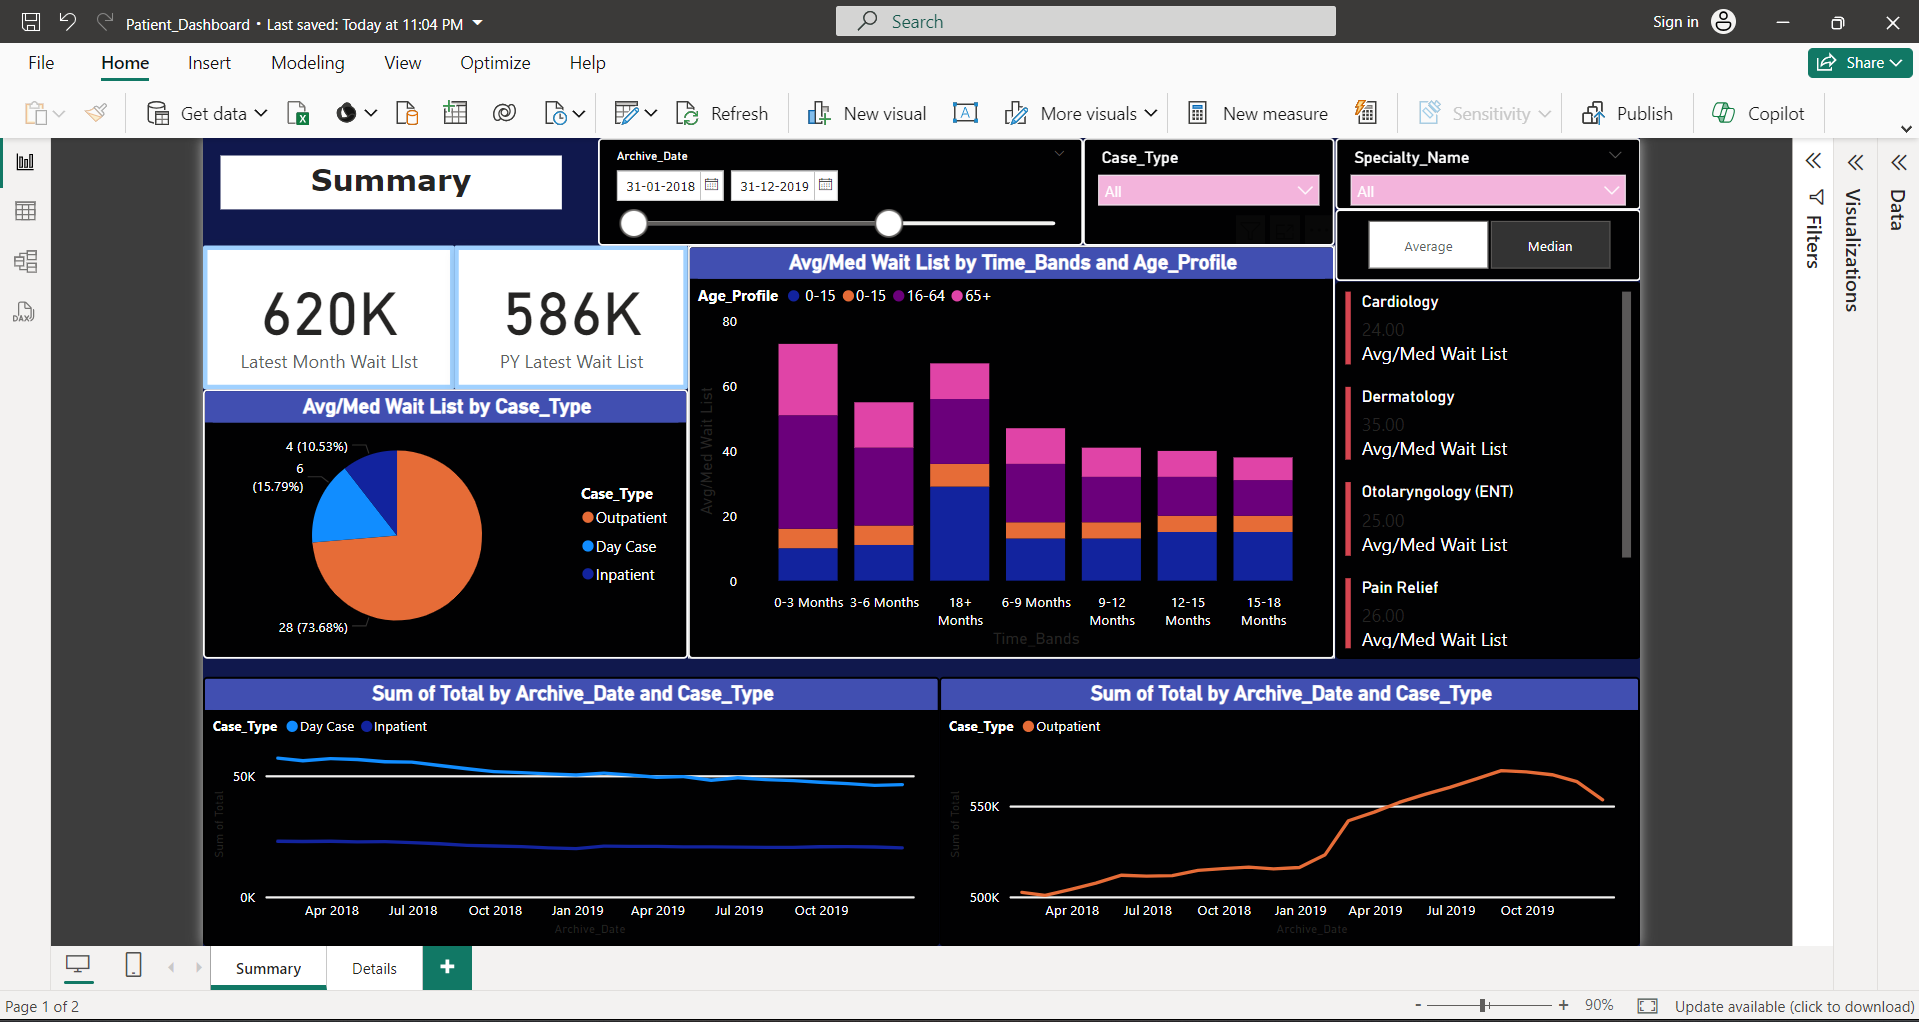

Layout of this report page (visuals, bound fields, positions):
{"tool":"powerbi","page":{"name":"Summary","canvas":[1280,720],"ordinal":0},"visuals":[{"type":"card","fields":{"Values":["All_Data.Latest_Month_Wait_List"]},"box":[0,96,224,128],"z":0},{"type":"card","fields":{"Values":["All_Data.PY Latest Wait List"]},"box":[224,96,208,128],"z":1},{"type":"slicer","fields":{"Values":["Calculation Method.Calc Method"]},"box":[1008,64,272,64],"z":2},{"type":"pieChart","fields":{"Category":["All_Data.Case_Type"],"Y":["All_Data.Avg/Med Wait List"]},"box":[0,224,432,240],"z":3},{"type":"columnChart","fields":{"Y":["All_Data.Avg/Med Wait List"],"Category":["All_Data.Time_Bands"],"Series":["All_Data.Age_Profile"]},"box":[432,96,576,368],"z":4},{"type":"multiRowCard","fields":{"Values":["All_Data.Specialty_Name","All_Data.Avg/Med Wait List"]},"box":[1008,128,272,336],"z":5},{"type":"lineChart","fields":{"Y":["Sum(All_Data.Total)"],"Category":["All_Data.Archive_Date"],"Series":["All_Data.Case_Type"]},"box":[0,480,656,240],"z":6},{"type":"lineChart","fields":{"Y":["Sum(All_Data.Total)"],"Category":["All_Data.Archive_Date"],"Series":["All_Data.Case_Type"]},"box":[656,480,624,240],"z":7},{"type":"slicer","fields":{"Values":["All_Data.Archive_Date"]},"box":[352,0,432,96],"z":8},{"type":"slicer","fields":{"Values":["All_Data.Case_Type"]},"box":[784,0,224,96],"z":9},{"type":"slicer","fields":{"Values":["All_Data.Specialty_Name"]},"box":[1008,0,272,64],"z":10},{"type":"textbox","box":[16,16,304,48],"z":13}]}

Visuals, with their boxes on the page's 1280x720 design canvas (x1, y1, x2, y2). These are canvas units, not pixel positions in the 1919x1022 screenshot, which may show the page scaled, cropped or inside an application window:
card - All_Data.Latest_Month_Wait_List: pyautogui.locateOnScreen(0, 96, 224, 224)
card - All_Data.PY Latest Wait List: pyautogui.locateOnScreen(224, 96, 432, 224)
slicer - Calculation Method.Calc Method: pyautogui.locateOnScreen(1008, 64, 1280, 128)
pieChart - All_Data.Case_Type x All_Data.Avg/Med Wait List: pyautogui.locateOnScreen(0, 224, 432, 464)
columnChart - All_Data.Avg/Med Wait List x All_Data.Time_Bands: pyautogui.locateOnScreen(432, 96, 1008, 464)
multiRowCard - All_Data.Specialty_Name x All_Data.Avg/Med Wait List: pyautogui.locateOnScreen(1008, 128, 1280, 464)
lineChart - Sum(All_Data.Total) x All_Data.Archive_Date: pyautogui.locateOnScreen(0, 480, 656, 720)
lineChart - Sum(All_Data.Total) x All_Data.Archive_Date: pyautogui.locateOnScreen(656, 480, 1280, 720)
slicer - All_Data.Archive_Date: pyautogui.locateOnScreen(352, 0, 784, 96)
slicer - All_Data.Case_Type: pyautogui.locateOnScreen(784, 0, 1008, 96)
slicer - All_Data.Specialty_Name: pyautogui.locateOnScreen(1008, 0, 1280, 64)
textbox: pyautogui.locateOnScreen(16, 16, 320, 64)
